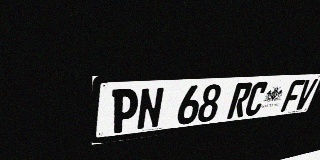6: (176, 85, 204, 125)
8: (196, 84, 224, 123)
C: (243, 81, 270, 117)
F: (280, 79, 306, 112)
N: (136, 87, 165, 131)
P: (110, 88, 139, 134)
R: (226, 82, 254, 119)
V: (293, 79, 318, 110)
